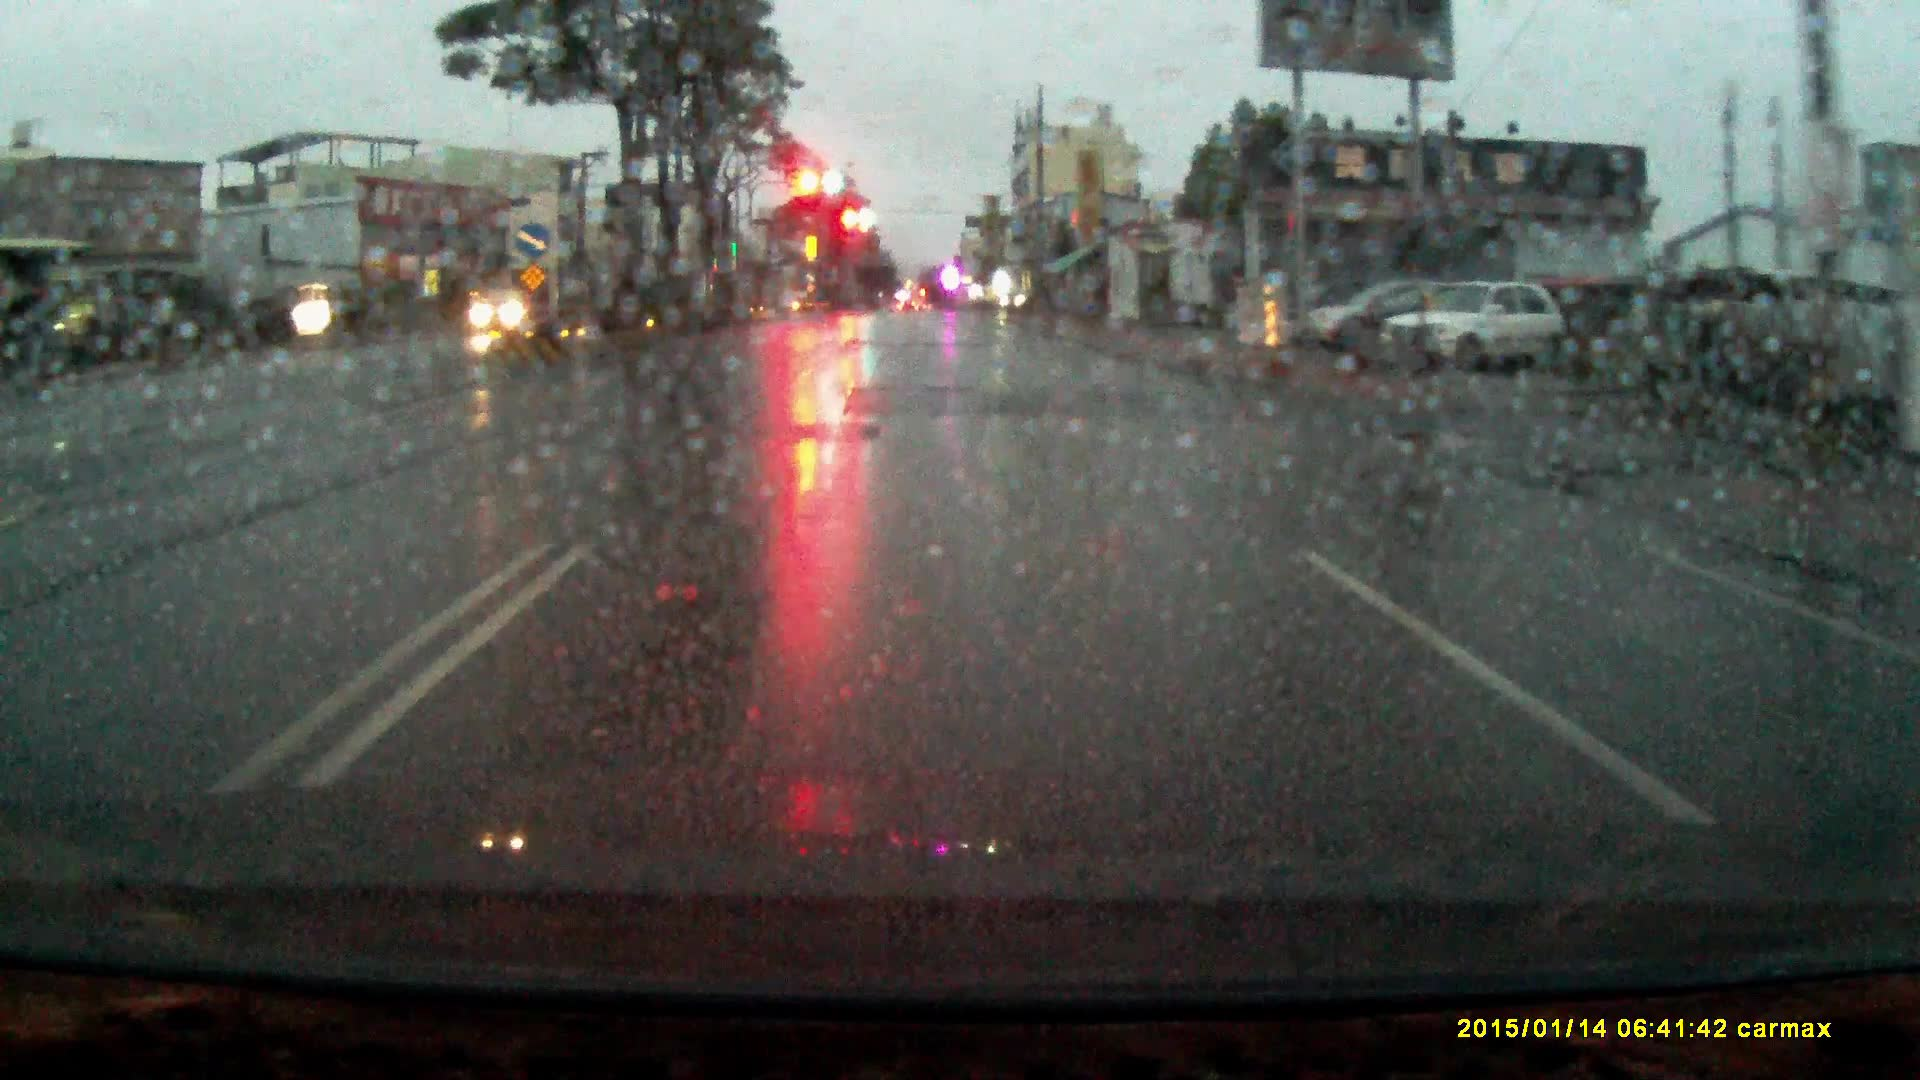vehicle: (1377, 280, 1569, 373), (1329, 282, 1473, 357), (1308, 285, 1412, 355), (469, 287, 555, 342), (1004, 285, 1060, 316)
